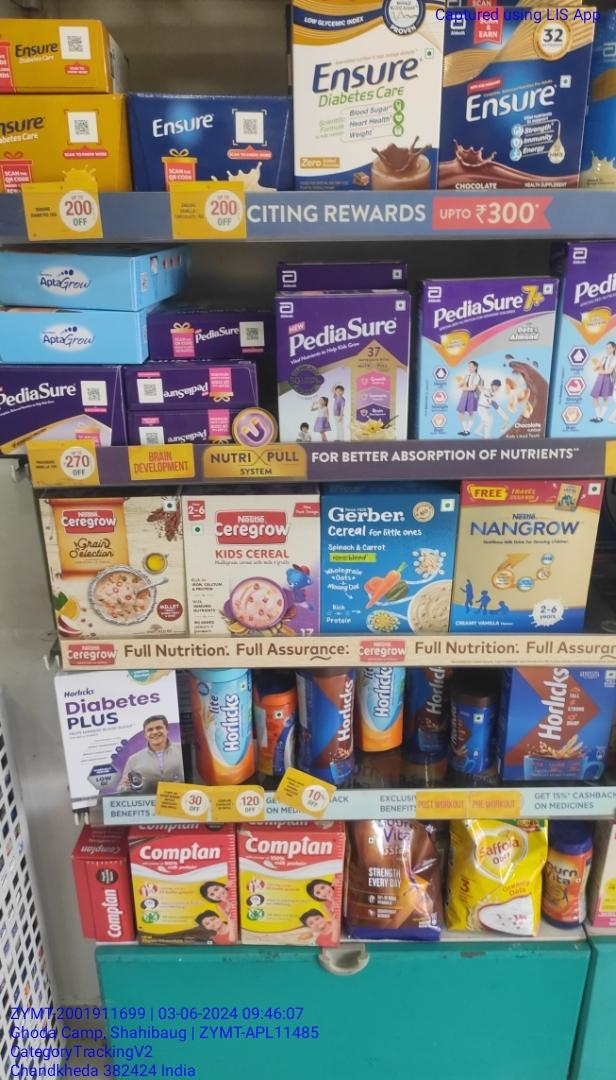BOURN_VITA_FIVE_STAR_MAGIC_750_G_POUCH: (346, 818, 449, 942)
HORLICKS_LITE_REGULAR_MALT_500_GM_JAR: (192, 662, 254, 783), (360, 666, 402, 754)
PEDIASURE_7_PLUS_CHOCOLATE_400_G_PACK: (418, 276, 555, 445)
PEDIASURE_VANILLA_500_G_PACK: (276, 292, 408, 443)
